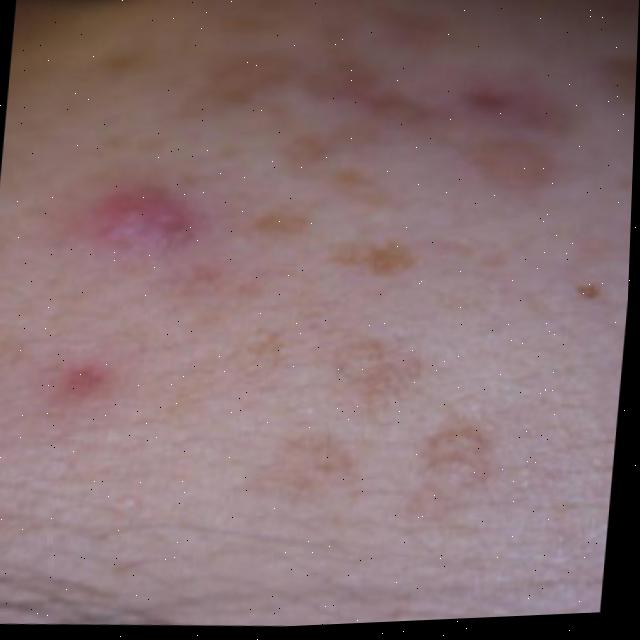Acne: (0, 36, 559, 518)
